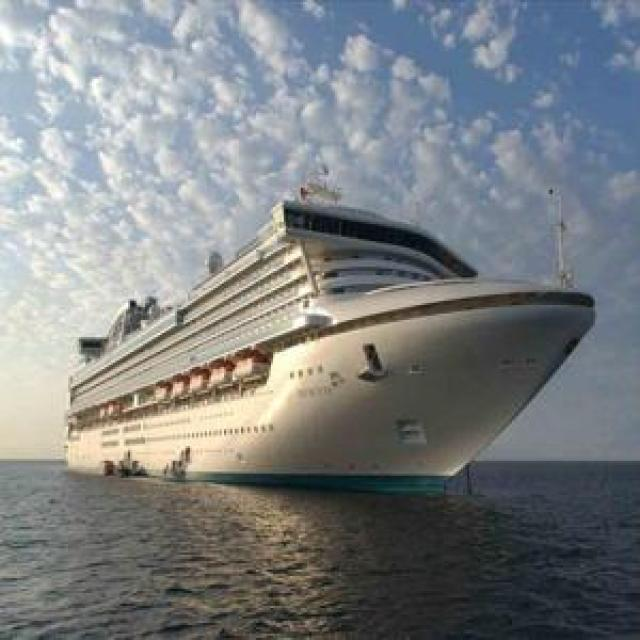passenger ship: (62, 192, 618, 511)
